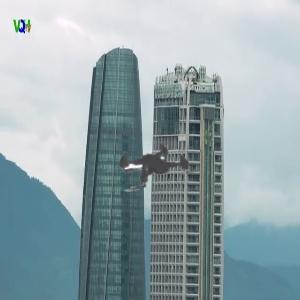drone: (84, 91, 222, 229)
